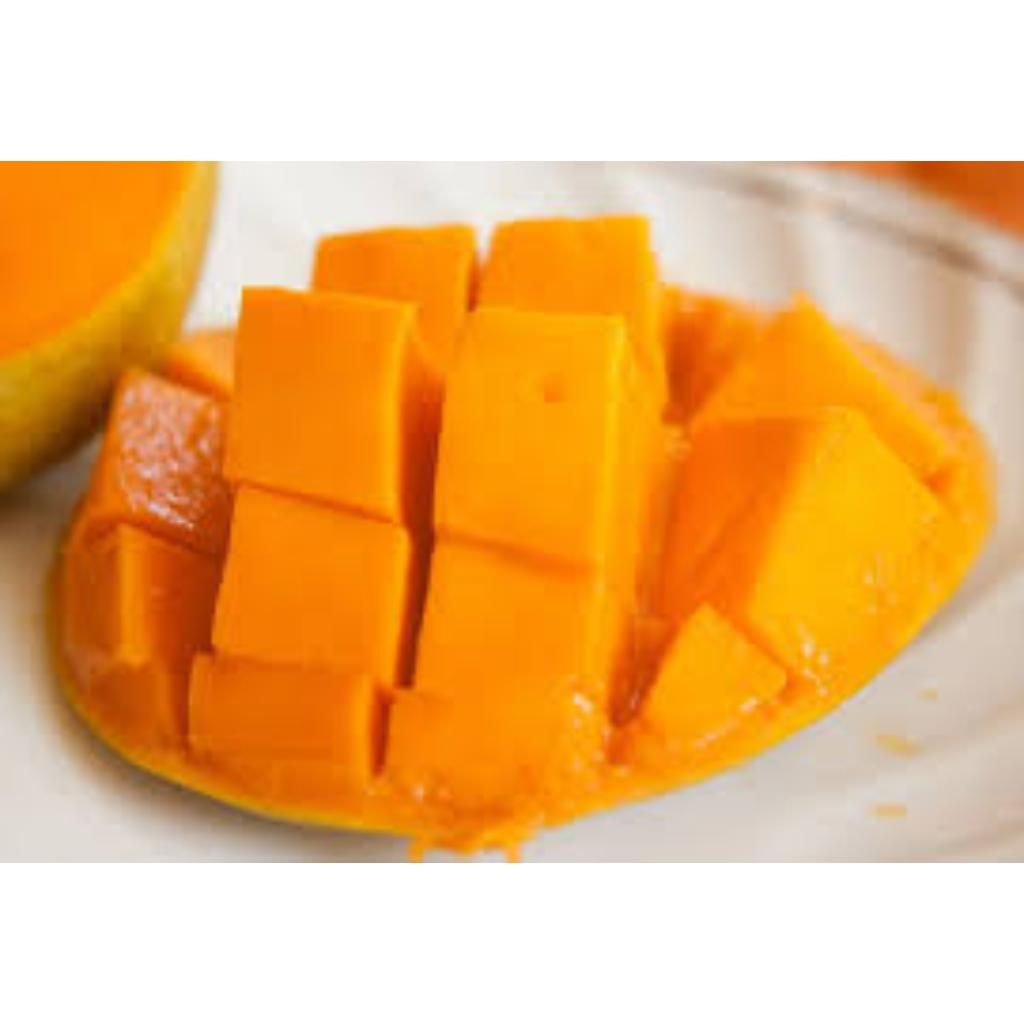mango: (40, 200, 1013, 828)
